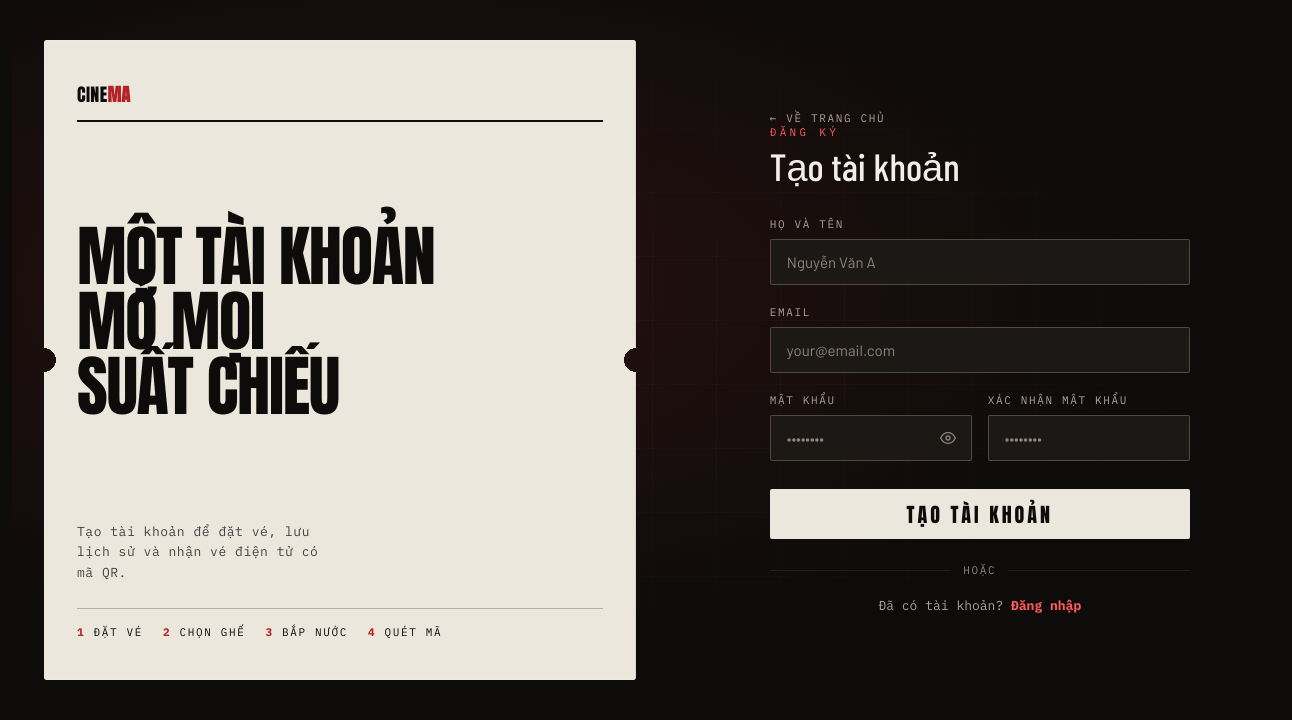
Test: Register › link sang đăng nhập mang theo nơi người dùng định đến
Expected: the button "Tạo tài khoản" is shown, [770,489,1190,539]
Click the link "Đăng nhập" at (1046, 606), box [1011,597,1081,614]
(page scrolled)
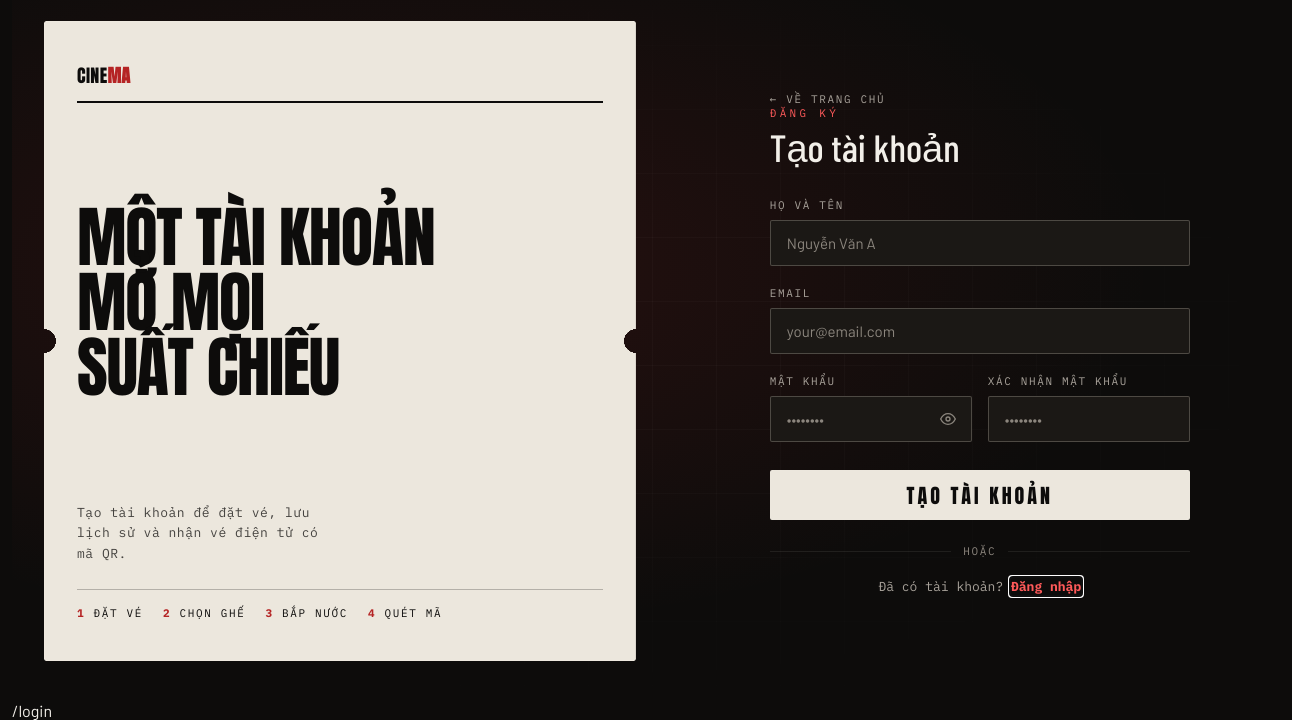
Result: the text with test id "path" reads "/login" at [12,701,52,719]
